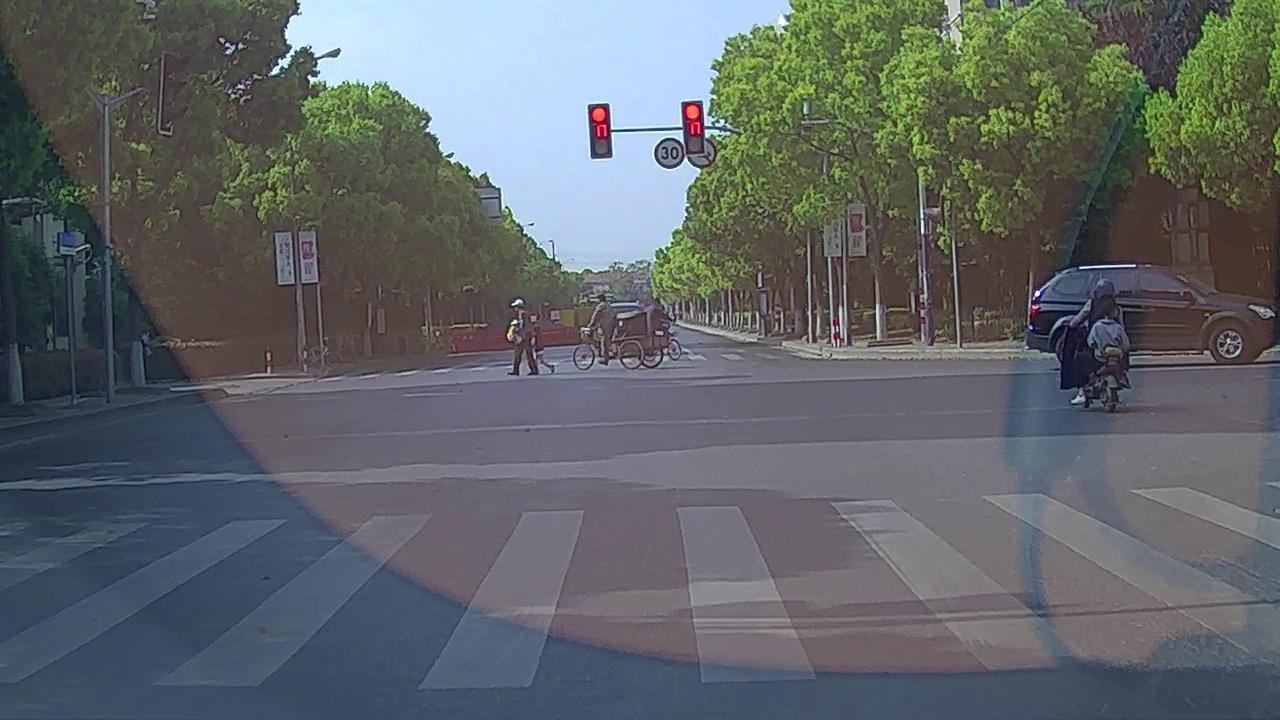traffic_light: (588, 105, 611, 158), (683, 102, 704, 155)
